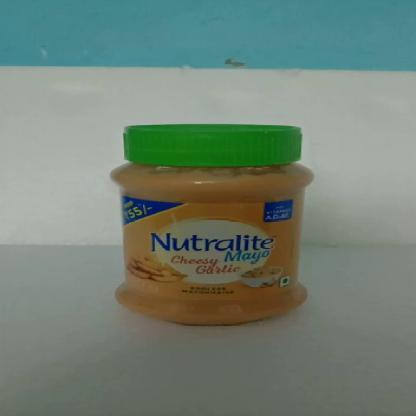Nutralite CHEESY GARLIC MAYO 300g-275g-25g-: (130, 124, 297, 310), (319, 312, 320, 317)
